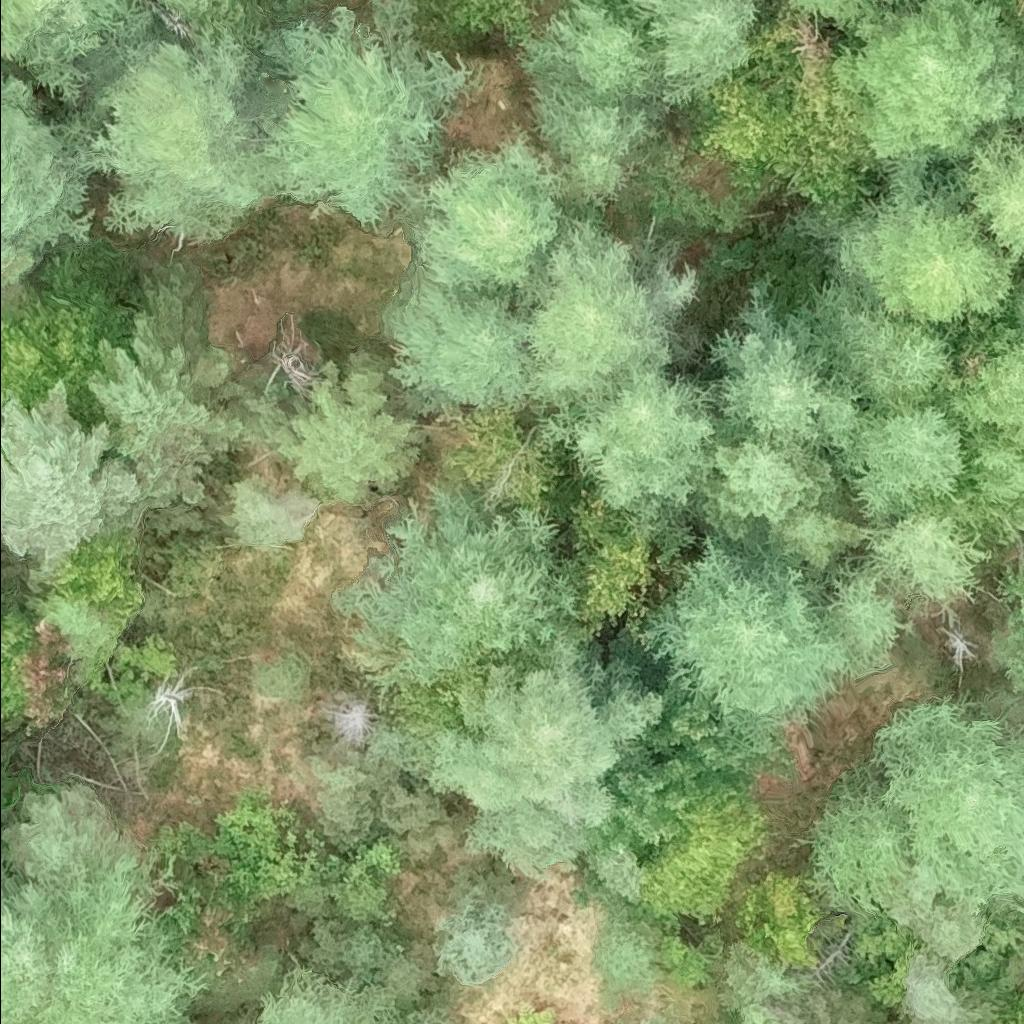crown: (431, 641, 663, 903), (343, 485, 590, 706), (644, 538, 913, 739), (86, 27, 290, 245), (271, 12, 469, 230), (0, 829, 209, 1023), (91, 263, 247, 511), (513, 219, 698, 411), (873, 698, 1023, 920), (829, 0, 1023, 169), (696, 14, 866, 204), (0, 378, 155, 572), (400, 125, 565, 295), (846, 164, 1016, 326), (538, 365, 721, 510), (717, 290, 866, 460), (280, 353, 421, 505), (808, 273, 961, 413), (393, 256, 534, 405), (0, 70, 94, 287), (818, 771, 942, 918), (835, 398, 973, 525), (640, 795, 770, 925), (0, 0, 156, 103), (531, 93, 665, 209), (617, 0, 760, 108), (517, 0, 657, 110), (0, 294, 108, 430), (942, 336, 1023, 509), (1, 781, 137, 870), (868, 514, 990, 608), (569, 489, 649, 621), (259, 951, 401, 1023), (0, 605, 70, 732), (433, 885, 518, 986), (965, 133, 1023, 272), (57, 521, 145, 612), (905, 953, 1006, 1023), (401, 658, 489, 738), (171, 871, 246, 963), (594, 917, 665, 1004), (893, 900, 984, 961), (442, 0, 542, 45), (231, 478, 299, 544), (153, 0, 250, 39), (321, 699, 375, 751), (1000, 566, 1023, 684), (790, 0, 875, 27), (1001, 0, 1023, 32), (874, 0, 922, 9), (1013, 506, 1023, 530), (646, 1018, 662, 1023), (0, 742, 5, 757), (615, 1023, 616, 1023)
